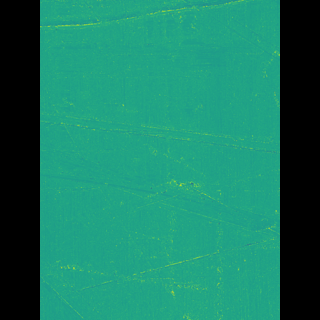Loch: (70, 142, 250, 251), (68, 0, 222, 80), (69, 104, 250, 161)
